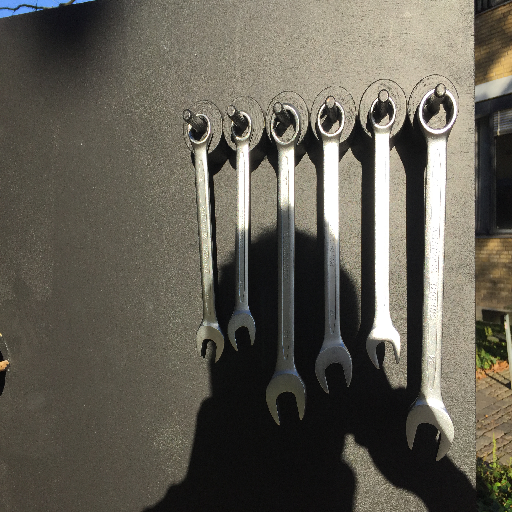bottom: (403, 399, 457, 465), (263, 367, 309, 429), (313, 338, 354, 396), (364, 323, 403, 371), (226, 308, 259, 354), (193, 320, 226, 364)
top: (414, 87, 461, 142), (266, 102, 304, 148), (314, 98, 349, 142), (365, 95, 399, 138), (184, 109, 213, 150), (227, 108, 255, 146)
